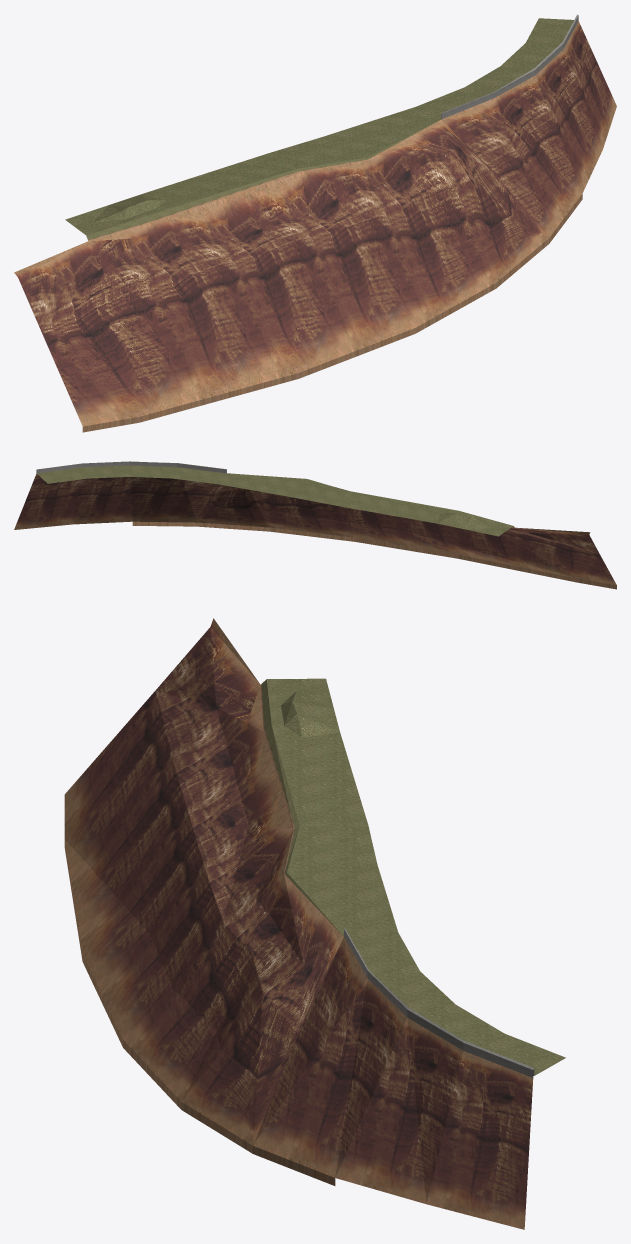
Rendered from beacliff02_law2.obj.
3 views of the same model, one above another, from view 1: azimuth 30°, elevation 25°; view 2: azimuth 150°, elevation 25°; view 3: azimuth 270°, elevation 25° (orthographic). The views are drawn at different scales.
Visible parts, largest first — view 1: BeaCliff02_LAw2; view 2: BeaCliff02_LAw2; view 3: BeaCliff02_LAw2.
Boxes of the visible parts, x1,y1,x2,y2 form: BeaCliff02_LAw2: (14,14,616,432); BeaCliff02_LAw2: (14,461,616,589); BeaCliff02_LAw2: (64,618,565,1229).
Bounding box in the file's own units: 157 × 29.43 × 68.23.
